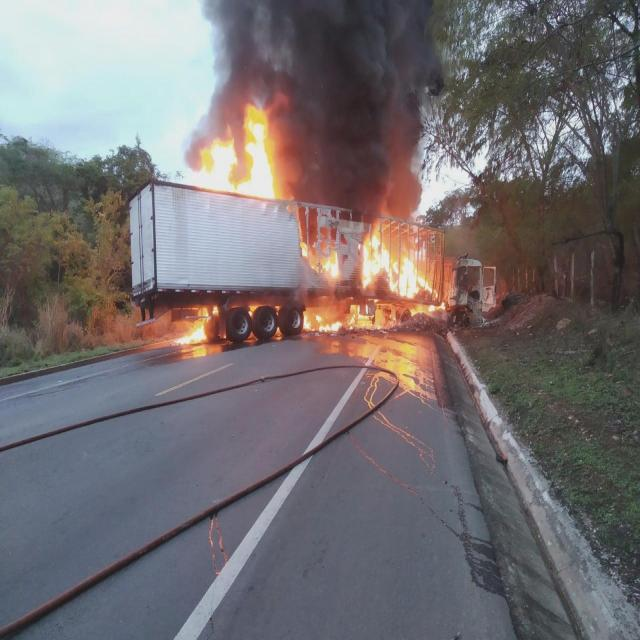Fire: (202, 109, 279, 200), (358, 235, 438, 298), (306, 305, 373, 332), (177, 309, 213, 344), (319, 250, 341, 278), (299, 239, 309, 259), (427, 302, 447, 312)
